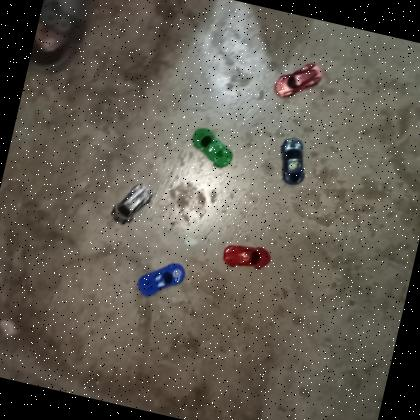Car: (272, 54, 326, 106), (133, 253, 188, 304), (106, 175, 156, 231), (186, 124, 238, 172), (271, 134, 314, 189), (220, 238, 274, 276)
